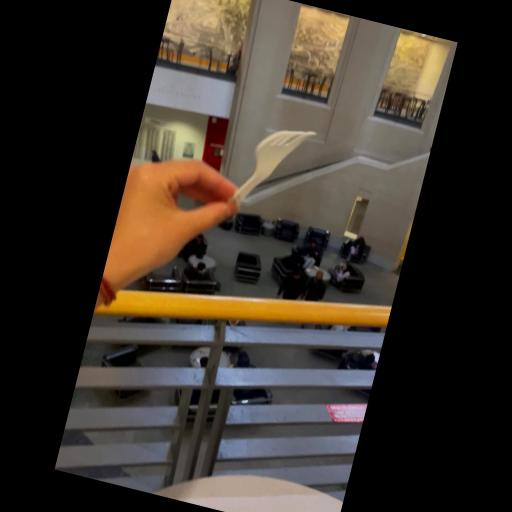utensil: (220, 112, 320, 234)
